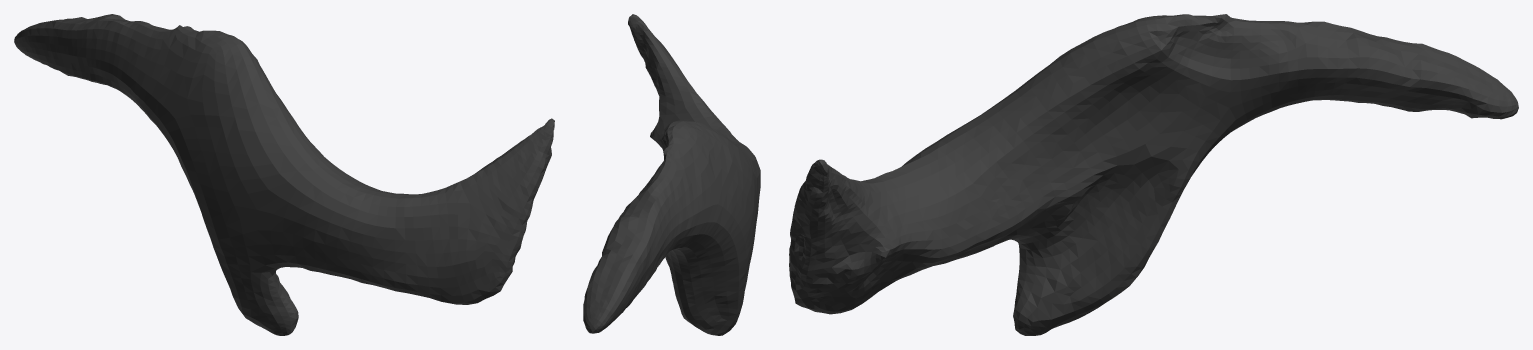
File: Zygomatic_R.glb
The picture shows the model from 3 angles, left to right: view 1: azimuth 30°, elevation 25°; view 2: azimuth 150°, elevation 25°; view 3: azimuth 270°, elevation 25°; orthographic projection. The views are drawn at different scales.
Visible parts, largest first — view 1: Zygomatic_R; view 2: Zygomatic_R; view 3: Zygomatic_R.
Part boxes in pixels (x1,y1,x2,y2): Zygomatic_R: (14, 14, 554, 335); Zygomatic_R: (583, 14, 760, 335); Zygomatic_R: (789, 14, 1518, 335).
Bounding box in the file's own units: 170 × 163 × 340.
1 material, 1 textured.
